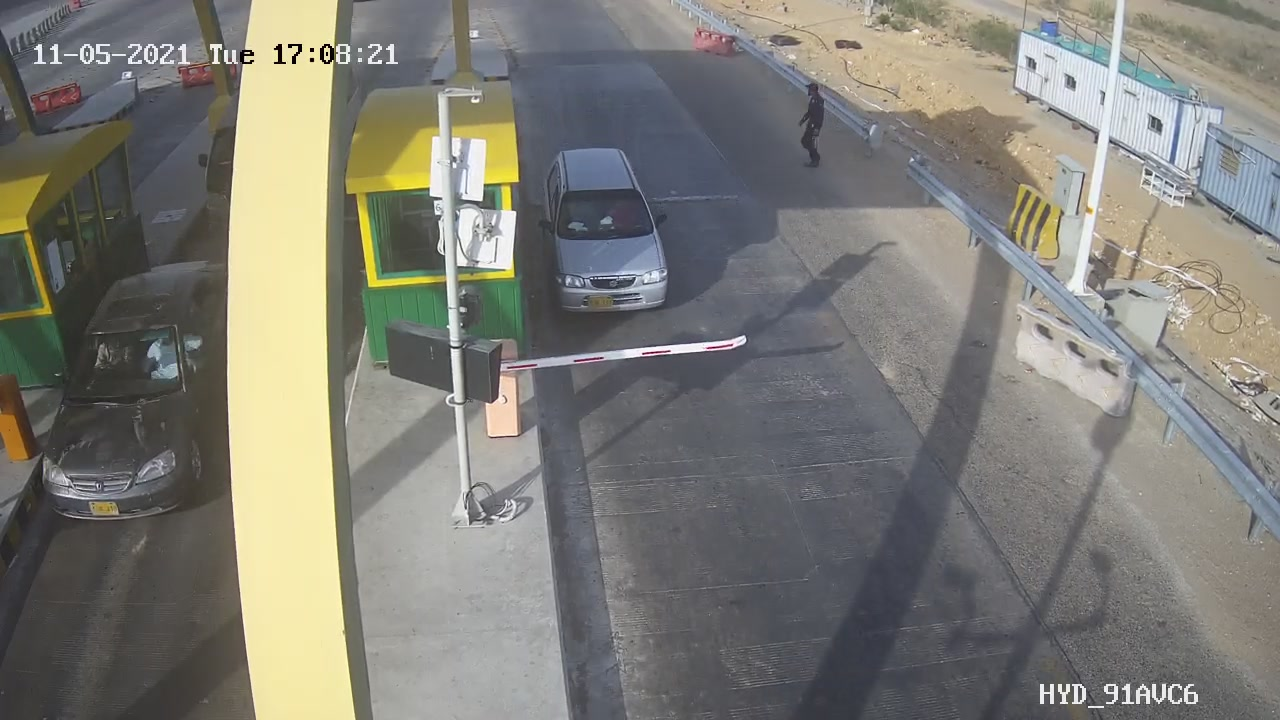F1: (522, 135, 686, 334)
